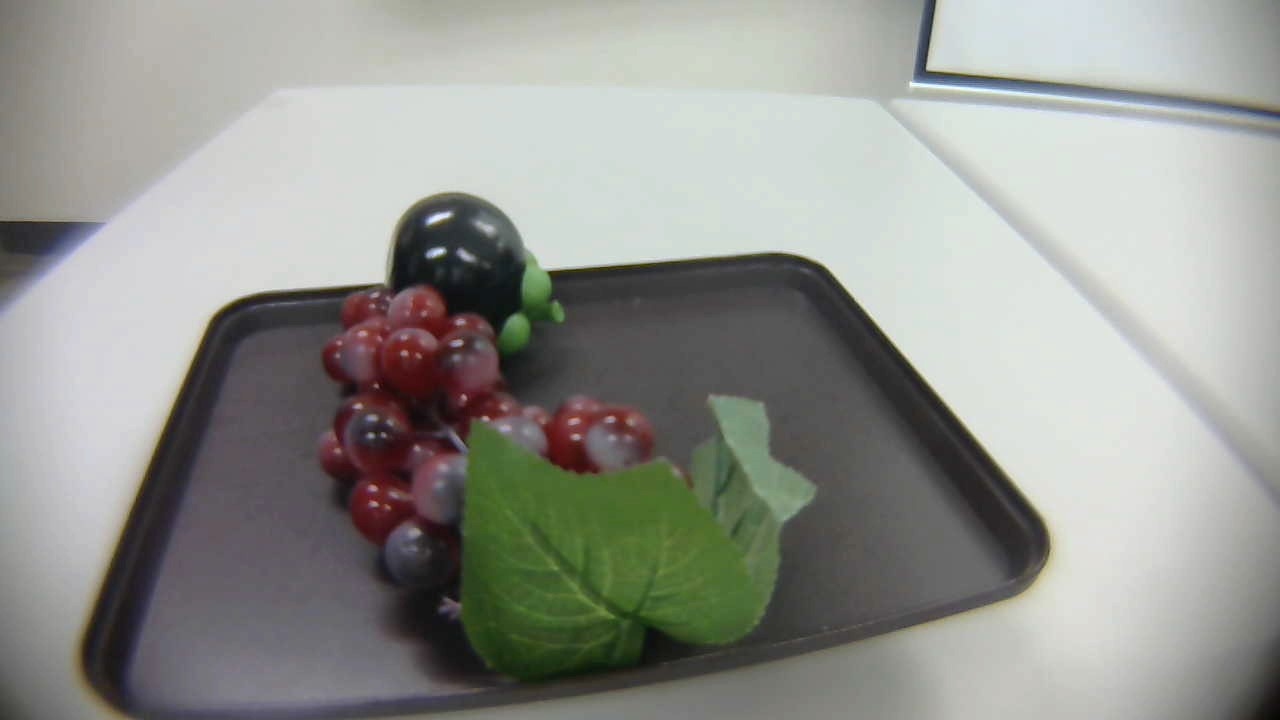grape: (315, 265, 814, 666)
mangosteen: (389, 179, 561, 368)
